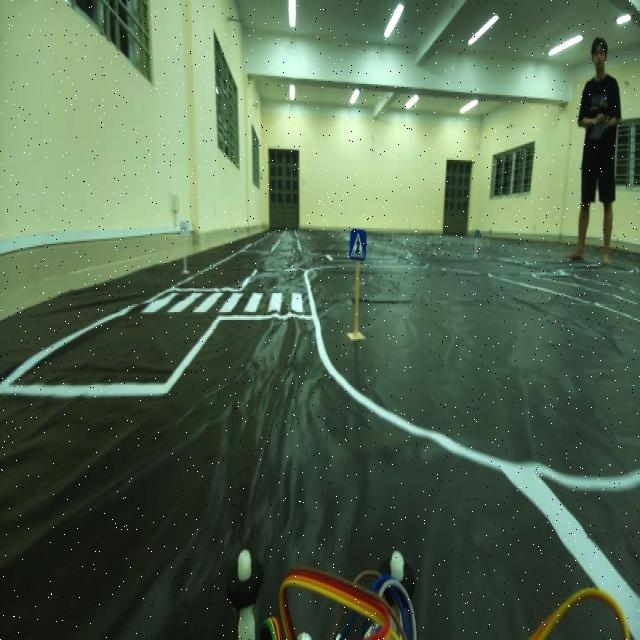crosswalk: (345, 224, 374, 272)
